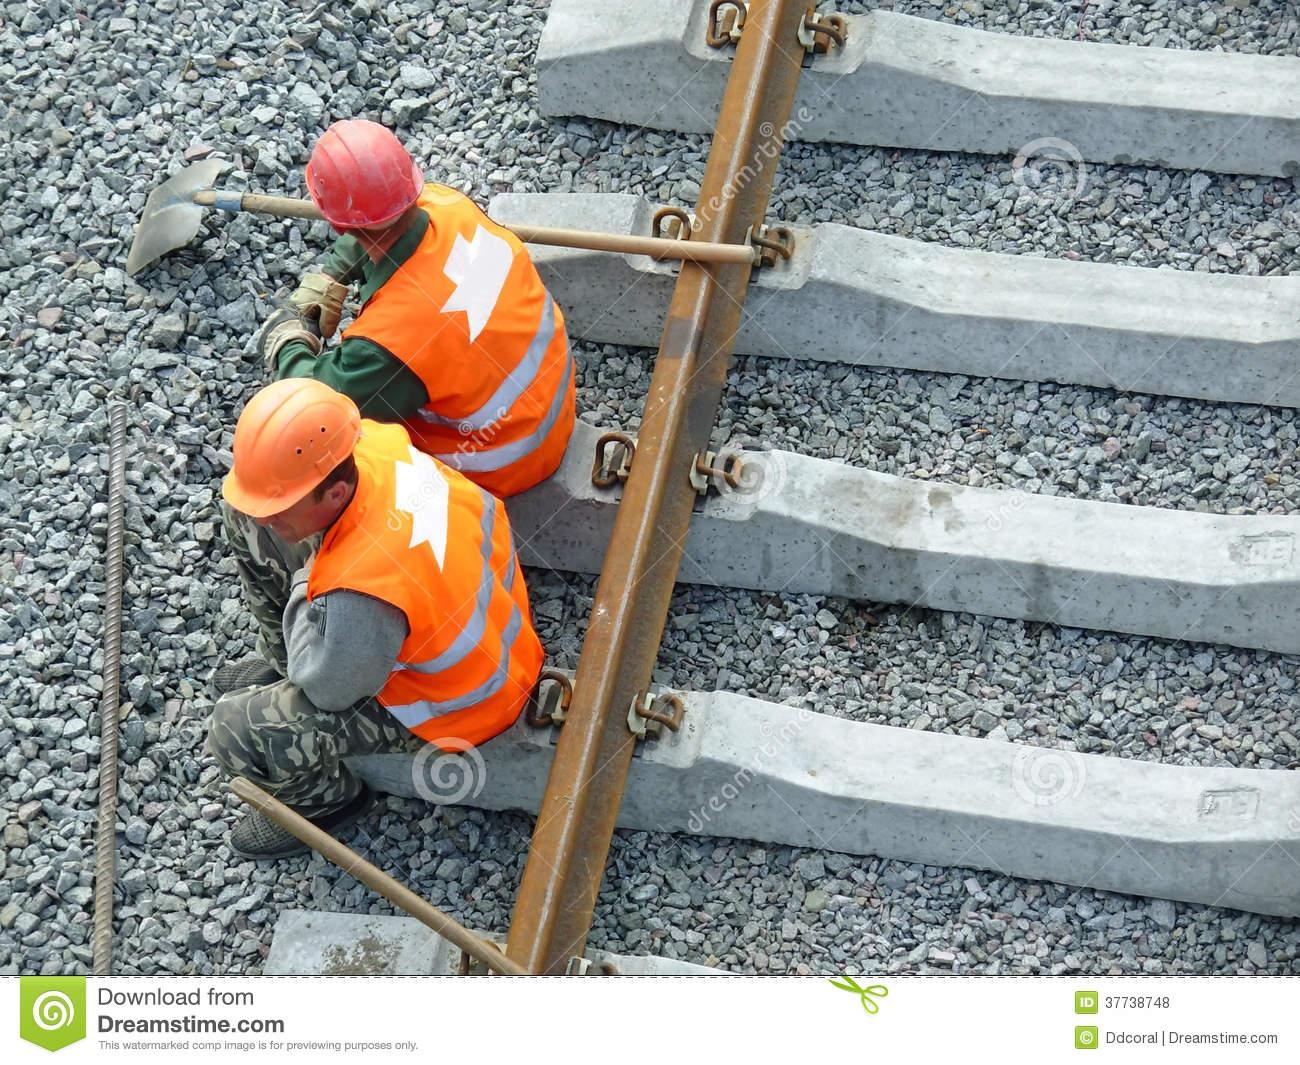helmet: (218, 385, 361, 524), (300, 117, 418, 230)
